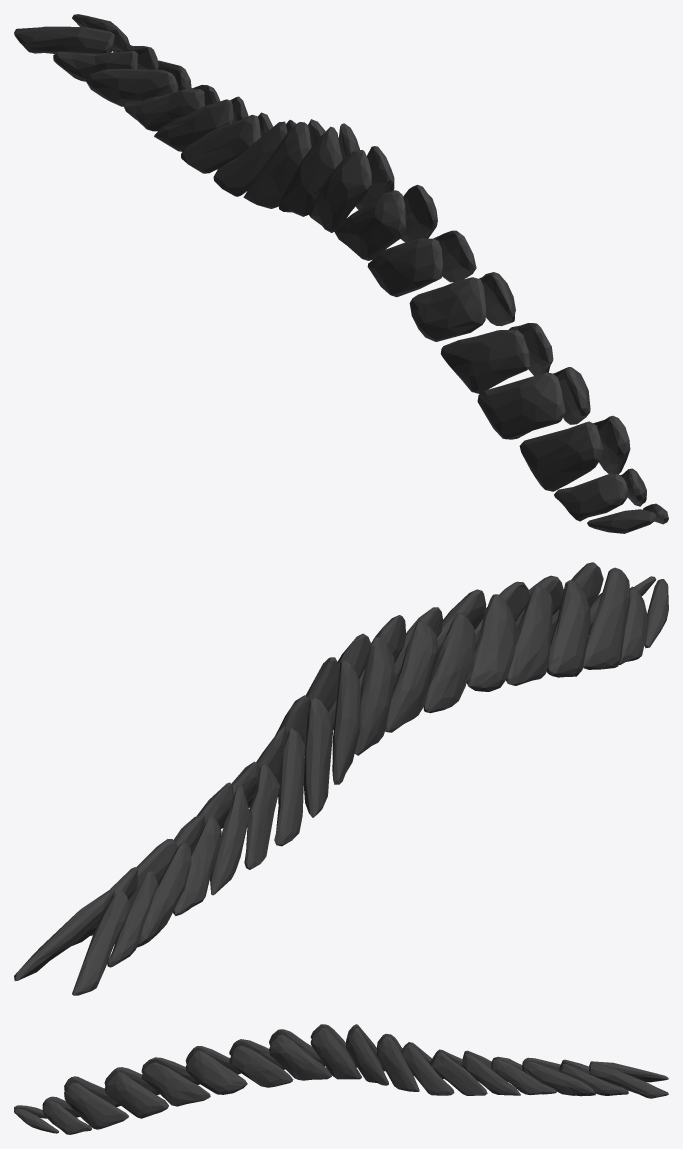
The model's file is m_multifidus_thoracis.glb.
3 renders of one model, top to bottom at view 1: azimuth 30°, elevation 25°; view 2: azimuth 150°, elevation 25°; view 3: azimuth 270°, elevation 25°, orthographic. The views are drawn at different scales.
Visible parts, largest first — view 1: m_multifidus_thoracis; view 2: m_multifidus_thoracis; view 3: m_multifidus_thoracis.
Part boxes in pixels (<box>): m_multifidus_thoracis: <box>14,14,668,533</box>; m_multifidus_thoracis: <box>14,562,668,995</box>; m_multifidus_thoracis: <box>14,1024,668,1134</box>.
Size of the model in its own units: 0.000945 by 0.00201 by 0.0118.
Materials: 1 (1 with a texture image).
